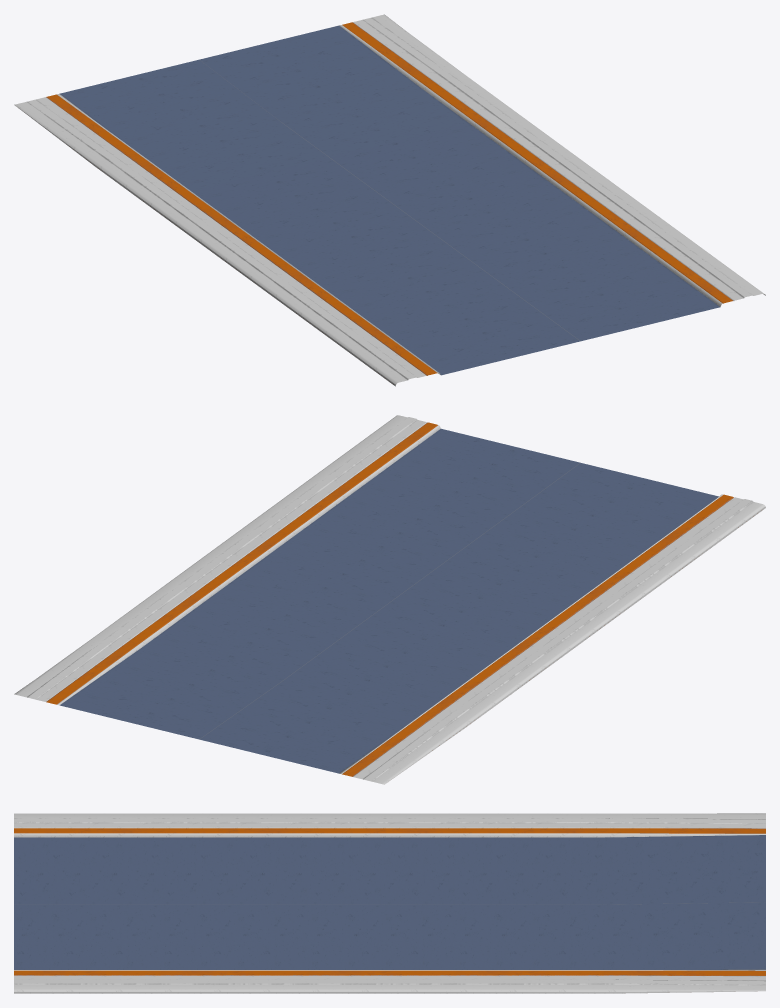
The model's file is Floor_AirLock.fbx.
3 views of the same model, one above another, from view 1: azimuth 30°, elevation 25°; view 2: azimuth 150°, elevation 25°; view 3: azimuth 270°, elevation 25° (orthographic).
Parts seen in each view (by area): view 1: Floor_AirLock; view 2: Floor_AirLock; view 3: Floor_AirLock.
Part boxes in pixels (x1,y1,x2,y2): Floor_AirLock: (14,14,765,386); Floor_AirLock: (14,415,765,784); Floor_AirLock: (14,813,765,993).
Bounding box in the file's own units: 12.95 × 0.1315 × 23.09.
